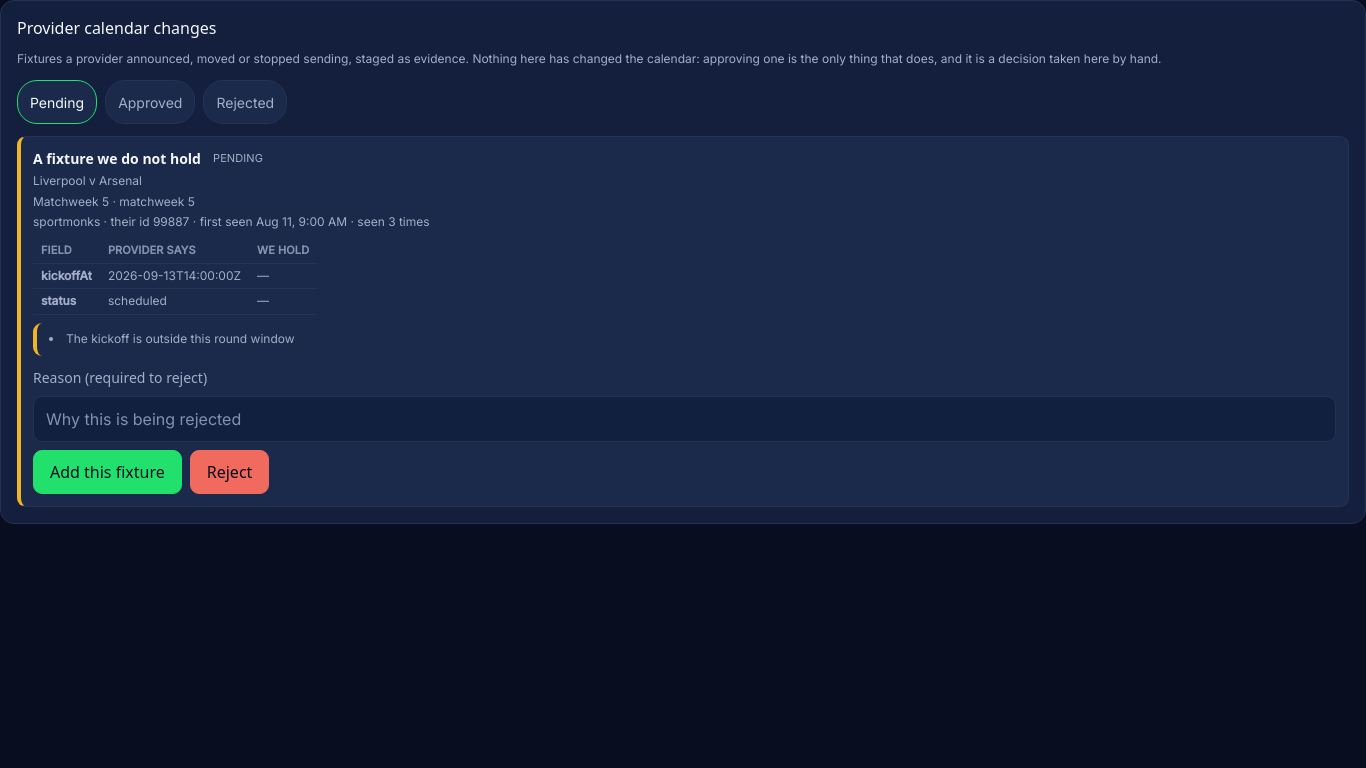
Scenario: ProviderChangePanel › shows the server’s own refusal rather than a generic failure
The width and height of the screenshot is (1366, 768).
Step 1. Click the button "Add this fixture" → (107, 472), box [33,450,182,494]
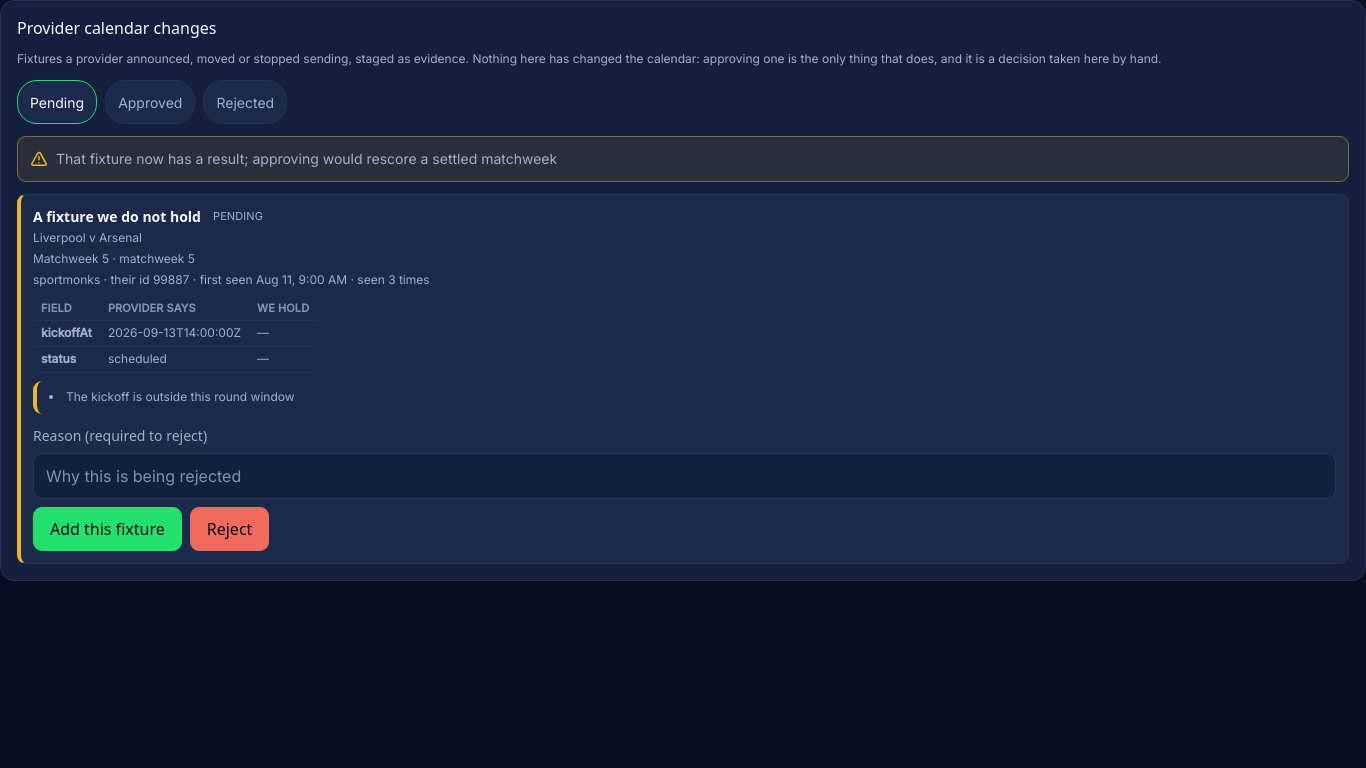
Expected: the text "That fixture now has a result; approving would rescore a settled matchweek" is shown, [56,150,557,167]
